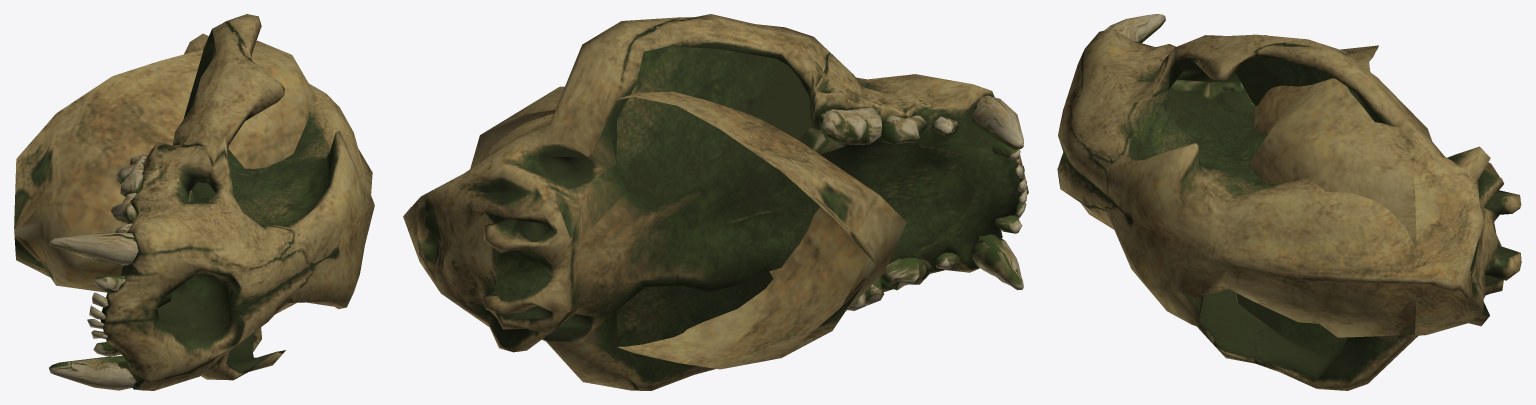
The model's file is F_CougarSkullMask.fbx.
3 renders of one model, left to right at view 1: azimuth 30°, elevation 25°; view 2: azimuth 150°, elevation 25°; view 3: azimuth 270°, elevation 25°, orthographic. The views are drawn at different scales.
Parts seen in each view (by area): view 1: Cougar; view 2: Cougar; view 3: Cougar.
Boxes of the visible parts, x1=… form: Cougar: x1=14, y1=14, x2=374, y2=390; Cougar: x1=403, y1=14, x2=1028, y2=390; Cougar: x1=1057, y1=14, x2=1521, y2=390.
Size of the model in its own units: 0.1897 by 0.1431 by 0.1782.
